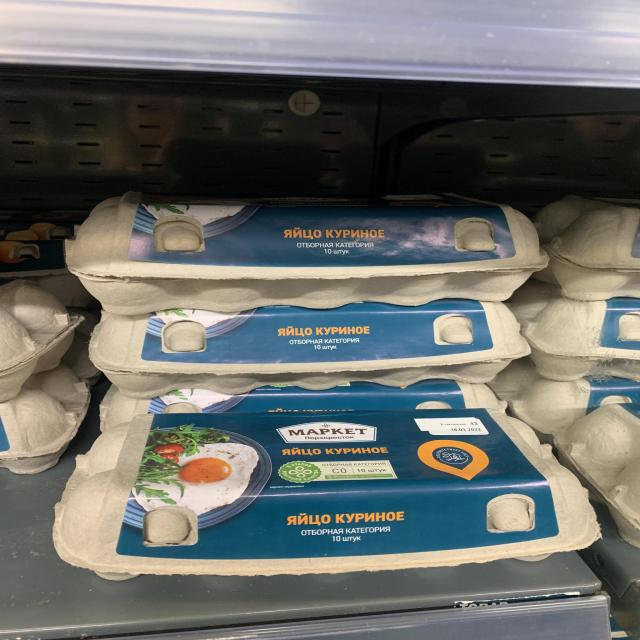organic waste: (60, 413, 601, 580), (63, 190, 549, 308), (91, 307, 536, 391), (537, 189, 640, 299), (537, 298, 640, 382)
